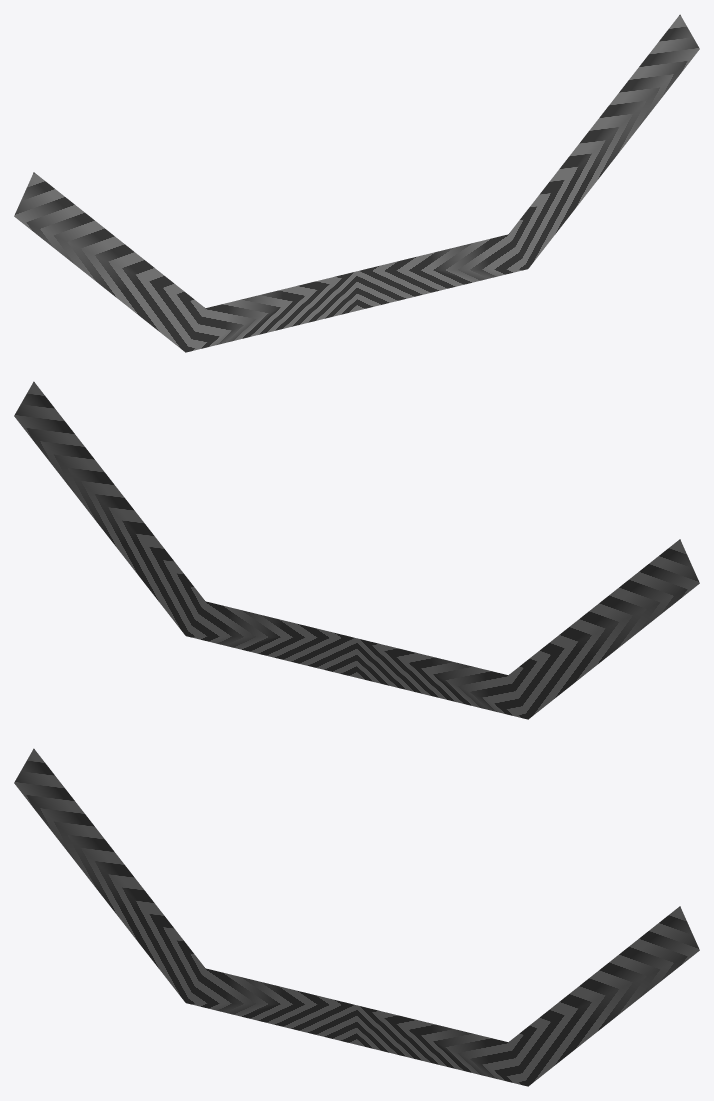
Rendered from road-template-basin1.glb.
3 renders of one model, top to bottom at view 1: azimuth 30°, elevation 25°; view 2: azimuth 150°, elevation 25°; view 3: azimuth 330°, elevation 25°, orthographic.
Visible parts, largest first — view 1: road-template-basin1; view 2: road-template-basin1; view 3: road-template-basin1.
Part boxes in pixels (left/top/right/bottom): road-template-basin1: left=14, top=14, right=699, bottom=352; road-template-basin1: left=14, top=381, right=699, bottom=719; road-template-basin1: left=14, top=748, right=699, bottom=1086.
Bounding box in the file's own units: 36.25 × 10.99 × 1.33e-06.
1 material, 1 textured.
